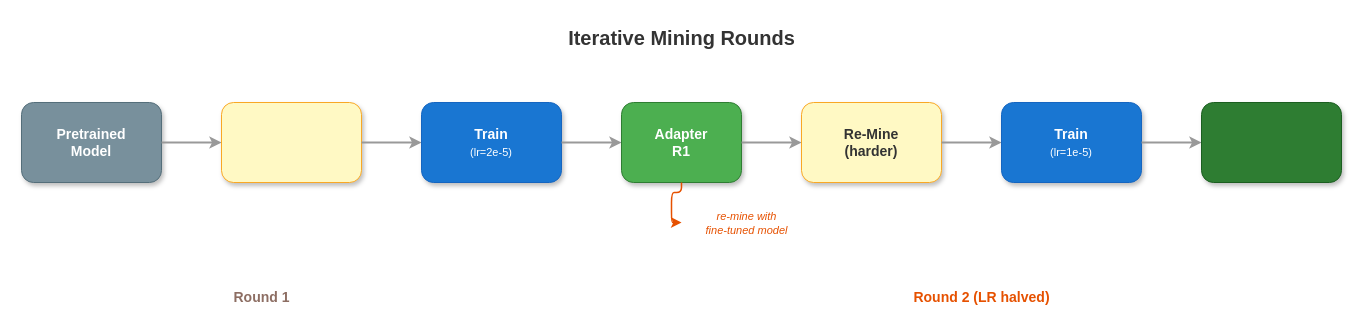
The diagram is 1365 pixels wide and 329 high, and some of its shapes have lost their labels. Here are the shapes that lost their labels. From the top down, the centre of each, then its label:
(292,144): Mine Negatives
(1272,144): Final Adapter
